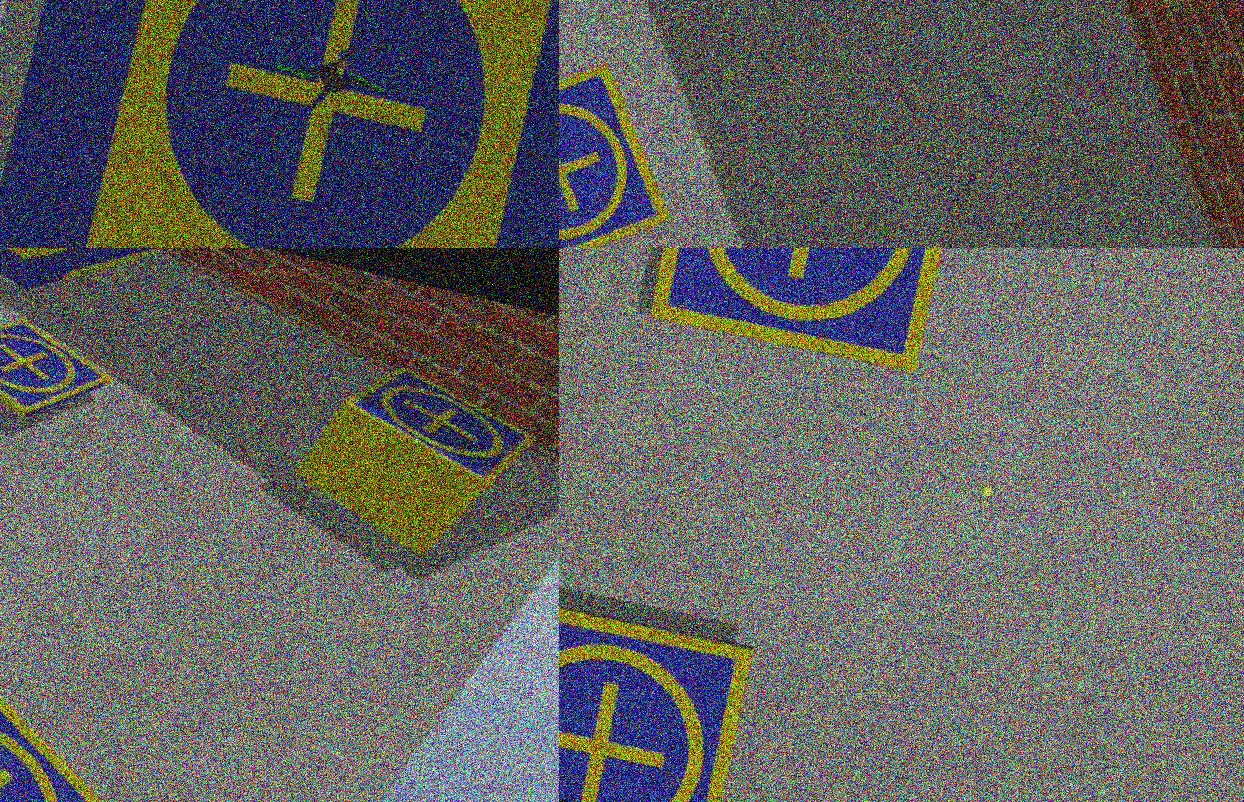large_base: (0, 1, 559, 249), (0, 249, 169, 317)
small_base: (643, 249, 982, 378), (559, 585, 757, 802), (327, 353, 549, 500), (559, 32, 698, 249), (0, 297, 124, 438)
